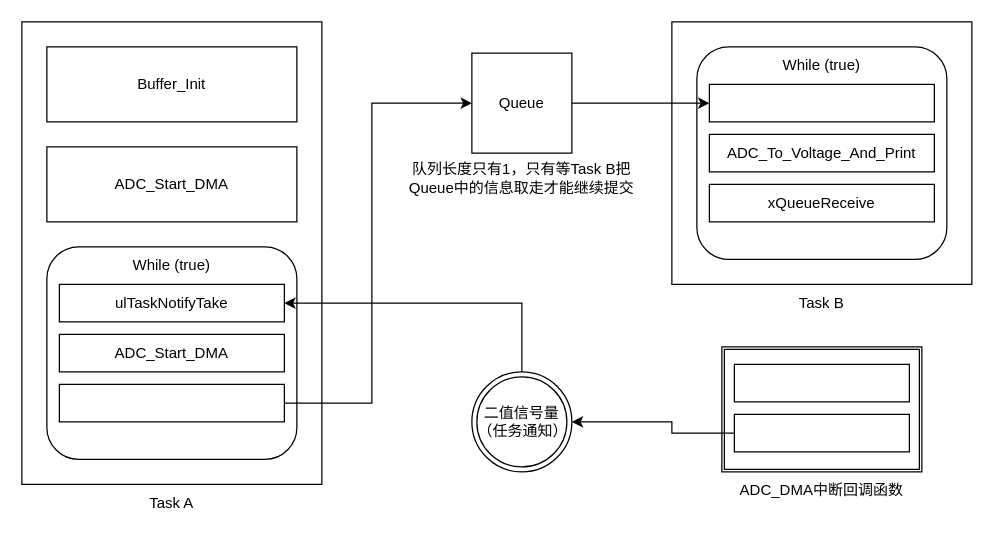
This 994x544 diagram has some shape labels left out. Each missing label, with the centre of its shape:
"ADC_Stop_DMA" goes at pixel 821 382.
"xQueuePeek" goes at pixel 821 102.
"xQueueSend" goes at pixel 171 402.
"xTaskNotifyGiveFromISR" goes at pixel 821 432.
